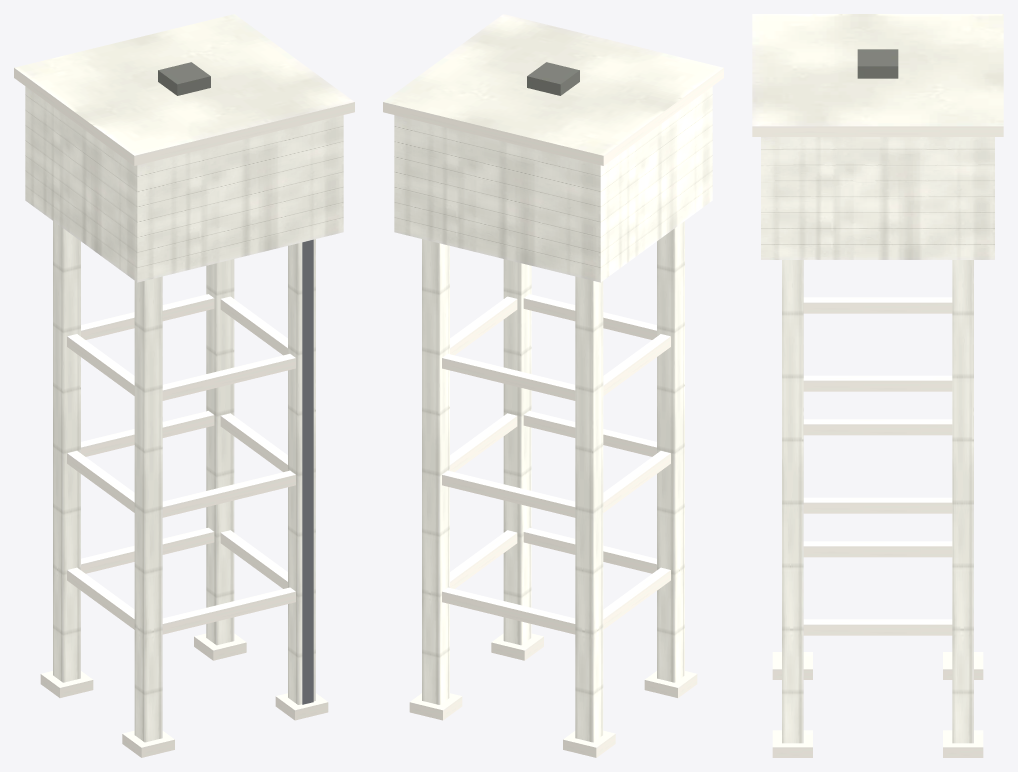
File: water-tank.glb
The picture shows the model from 3 angles, left to right: view 1: azimuth 30°, elevation 25°; view 2: azimuth 150°, elevation 25°; view 3: azimuth 270°, elevation 25°; orthographic projection. The views are drawn at different scales.
Parts seen in each view (by area): view 1: Water Tank; view 2: Water Tank; view 3: Water Tank.
Boxes of the visible parts, box(x1,y1,x2,y2) form: Water Tank: box(14, 14, 354, 757); Water Tank: box(383, 14, 723, 757); Water Tank: box(752, 14, 1003, 757).
Bounding box in the file's own units: 7.9 × 21.4 × 7.47.
1 material, 1 textured.
